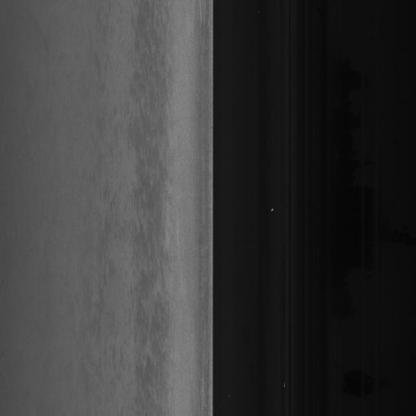silk_spot: (129, 98, 182, 416)
